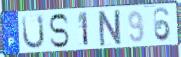1: (78, 11, 90, 49)
6: (153, 7, 172, 44)
9: (127, 10, 146, 44)
N: (98, 8, 124, 48)
S: (47, 12, 70, 49)
U: (21, 14, 47, 51)
